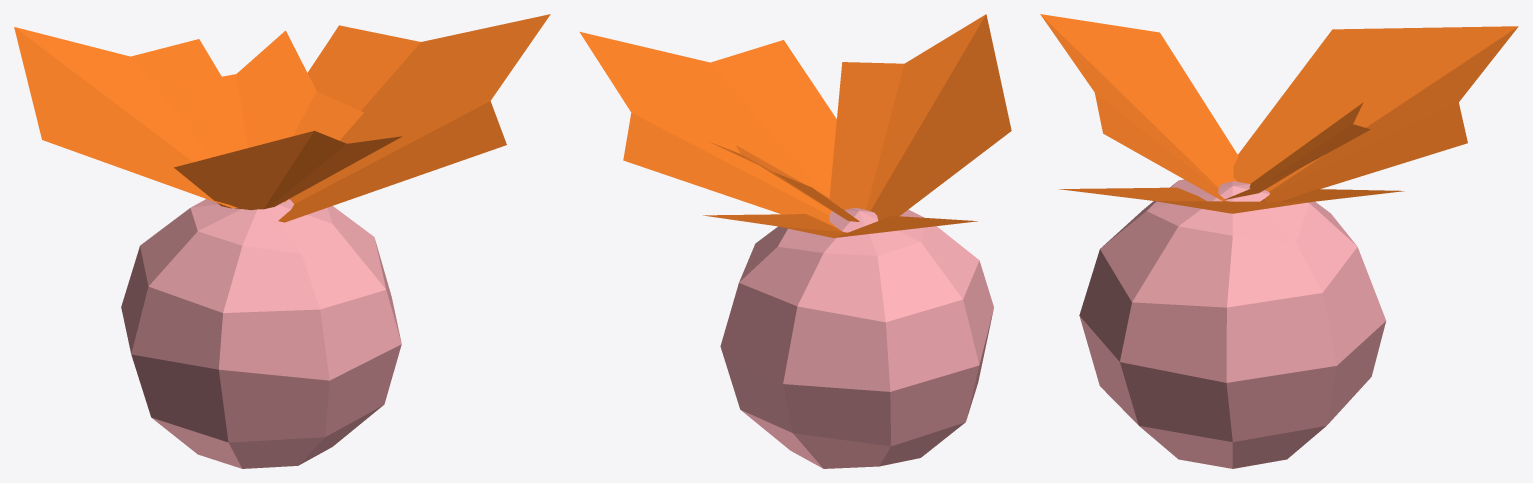
The model's file is scifi_scifi-plant-leaf-medium.fbx.
3 views of the same model, side by side, from view 1: azimuth 30°, elevation 25°; view 2: azimuth 150°, elevation 25°; view 3: azimuth 270°, elevation 25° (orthographic). The views are drawn at different scales.
Parts seen in each view (by area): view 1: scifi_scifi_plant_leaf_medium; view 2: scifi_scifi_plant_leaf_medium; view 3: scifi_scifi_plant_leaf_medium.
Part boxes in pixels (x1,y1,x2,y2): scifi_scifi_plant_leaf_medium: (14, 14, 550, 468); scifi_scifi_plant_leaf_medium: (579, 14, 1011, 468); scifi_scifi_plant_leaf_medium: (1040, 14, 1518, 468).
Size of the model in its own units: 200 by 167 by 172.
